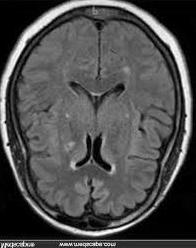Normal_Brain: (1, 2, 196, 241)
